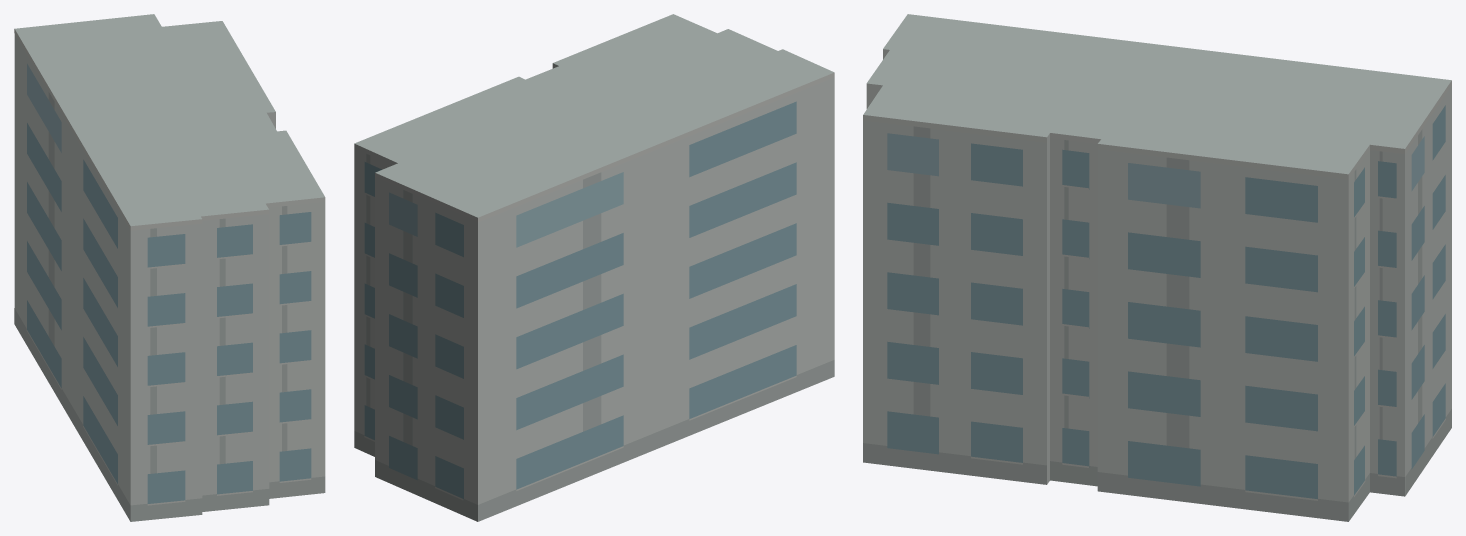
File: survey-upis-33015081.glb
The picture shows the model from 3 angles, left to right: view 1: azimuth 30°, elevation 25°; view 2: azimuth 150°, elevation 25°; view 3: azimuth 270°, elevation 25°; orthographic projection. The views are drawn at different scales.
Parts seen in each view (by area): view 1: survey-upis-33015081.tmp; view 2: survey-upis-33015081.tmp; view 3: survey-upis-33015081.tmp.
Part boxes in pixels (x1,y1,x2,y2): survey-upis-33015081.tmp: (14, 14, 325, 521); survey-upis-33015081.tmp: (354, 14, 834, 521); survey-upis-33015081.tmp: (863, 14, 1451, 521).
Size of the model in its own units: 15.64 by 15.8 by 24.26.
